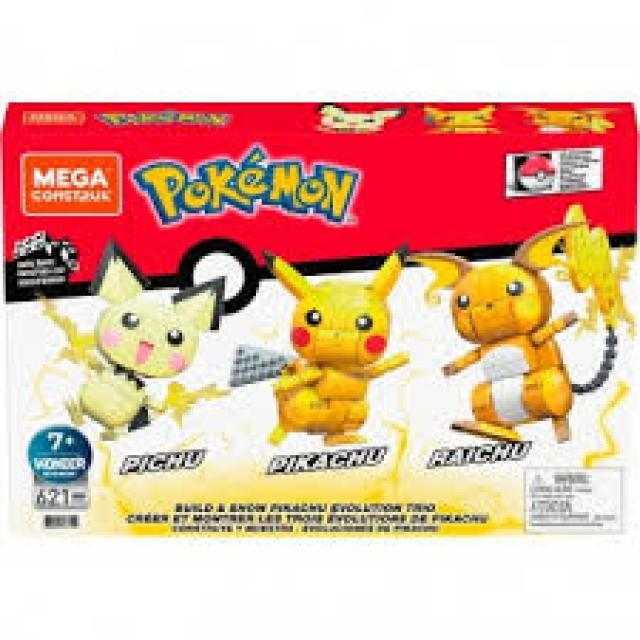pichu: (27, 240, 207, 459)
